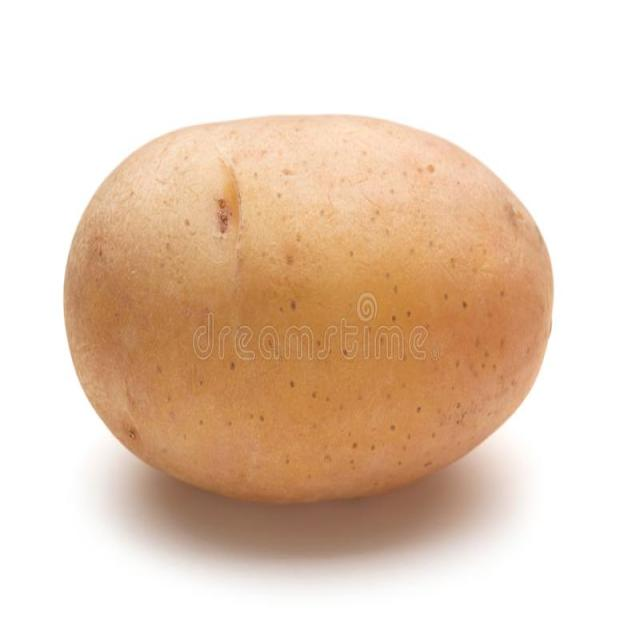potato: (63, 116, 554, 506)
